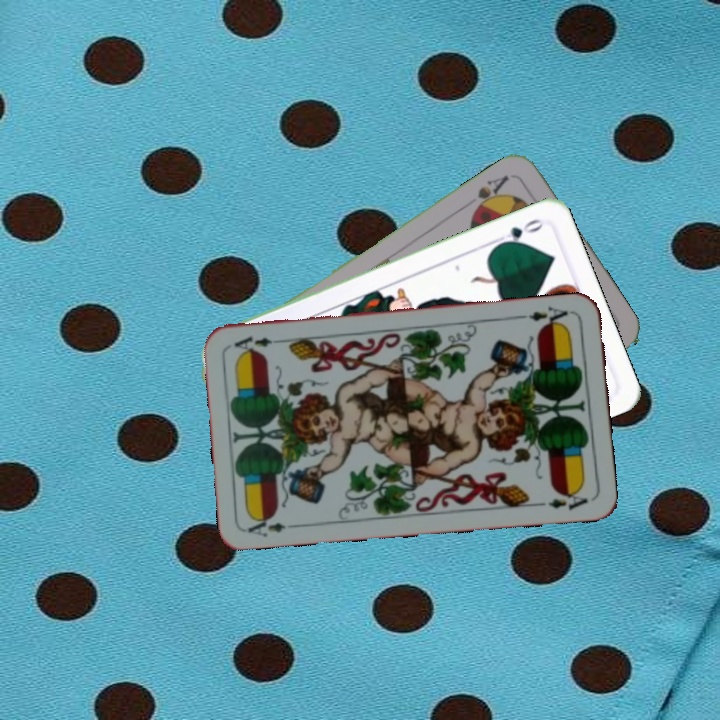EA: (516, 302, 575, 330), (244, 512, 302, 540)
GO: (490, 214, 547, 250)
SA: (469, 170, 512, 216)
